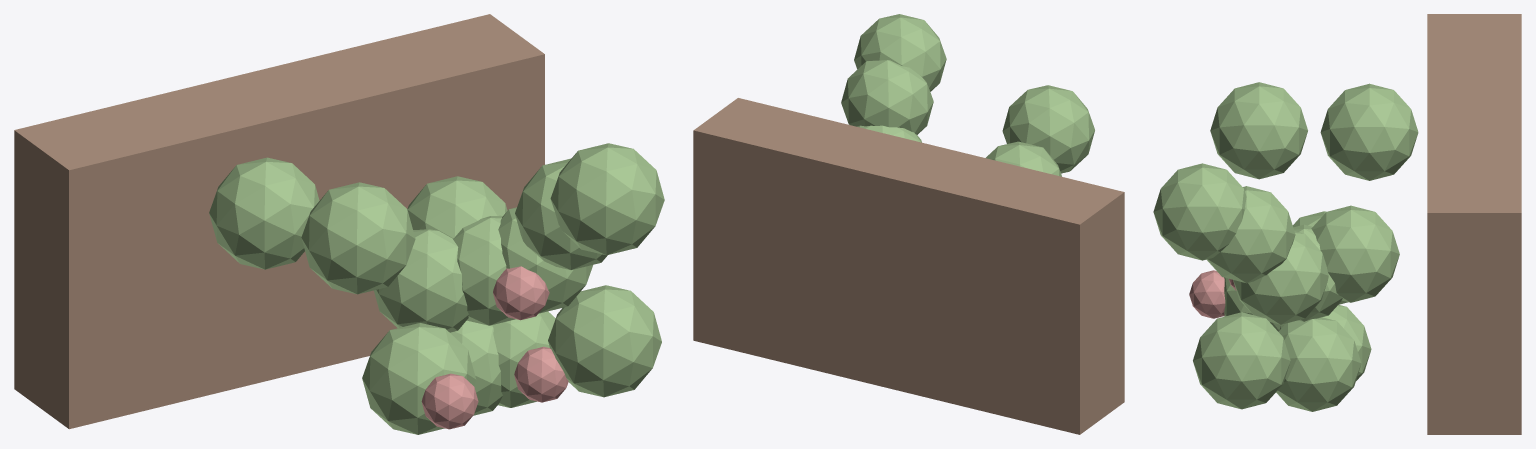
Rendered from flower_planter.glb.
The picture shows the model from 3 angles, left to right: view 1: azimuth 30°, elevation 25°; view 2: azimuth 150°, elevation 25°; view 3: azimuth 270°, elevation 25°; orthographic projection. The views are drawn at different scales.
Visible parts, largest first — view 1: wood, leaf2, salmon; view 2: wood, leaf2; view 3: leaf2, wood, salmon.
Boxes of the visible parts, box(x1,y1,x2,y2) form: wood: box(14, 14, 544, 429); leaf2: box(209, 143, 664, 434); salmon: box(421, 266, 568, 429); wood: box(693, 98, 1124, 434); leaf2: box(841, 14, 1094, 176); leaf2: box(1153, 82, 1418, 411); wood: box(1427, 14, 1521, 434); salmon: box(1189, 270, 1236, 318).
Bounding box in the file's own units: 2.51 × 1.51 × 1.95.
